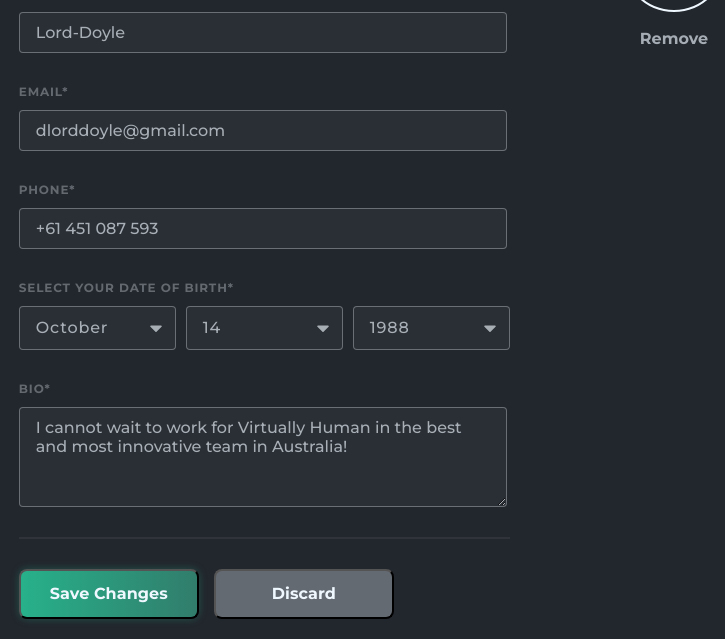
Test: The bio field input text area › will tell me the field is required if the user does not put a value in the Bio text area
(page scrolled)
Clear the text box named "bioinput": (263, 456) [19,406,507,506]
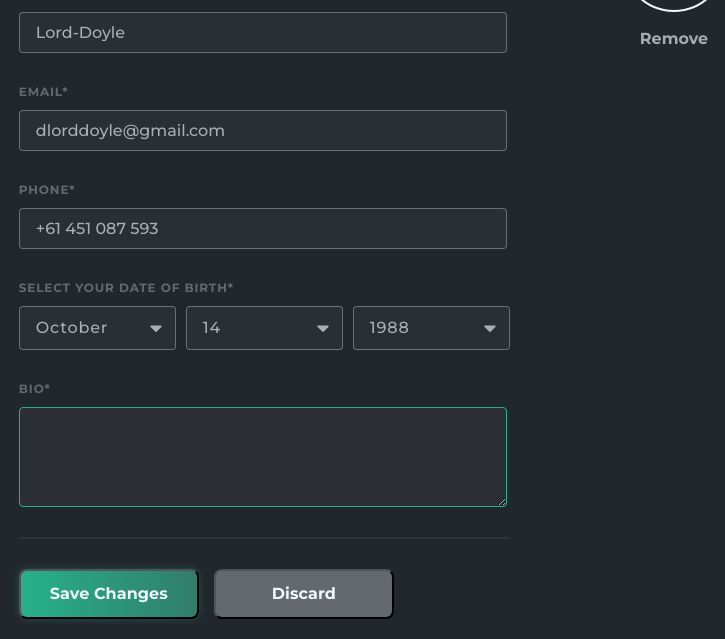
Click the field named "phoneinput": (263, 228) [19,208,507,249]
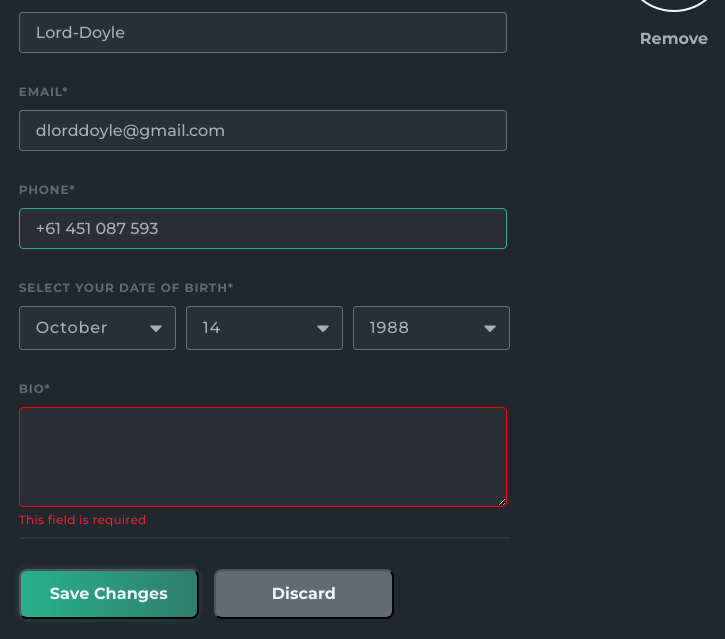
Expected: the text with test id "bioErrorMessage" reads "This field is required", [19,512,146,526]
